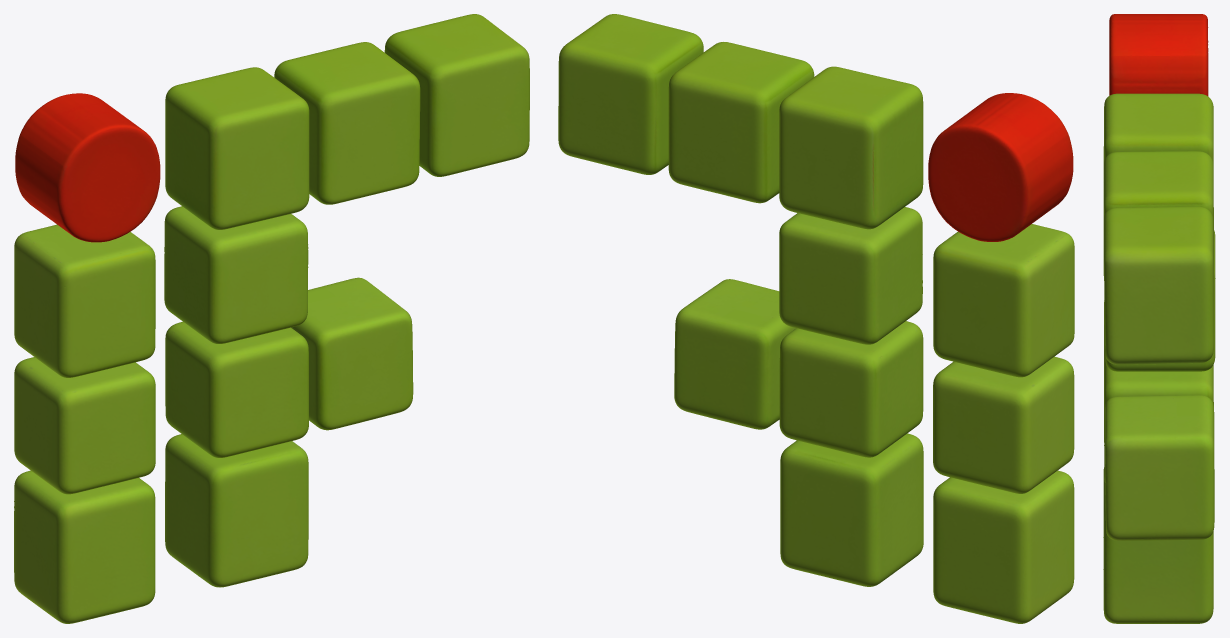
File: IFneon.glb
3 renders of one model, left to right at view 1: azimuth 30°, elevation 25°; view 2: azimuth 150°, elevation 25°; view 3: azimuth 270°, elevation 25°, orthographic. The views are drawn at different scales.
Visible parts, largest first — view 1: tripo_node_4b91491d-3629-4b08-9e9b-c11e351f5221; view 2: tripo_node_4b91491d-3629-4b08-9e9b-c11e351f5221; view 3: tripo_node_4b91491d-3629-4b08-9e9b-c11e351f5221.
Boxes of the visible parts, bbox=[...] form: tripo_node_4b91491d-3629-4b08-9e9b-c11e351f5221: bbox=[14, 14, 529, 623]; tripo_node_4b91491d-3629-4b08-9e9b-c11e351f5221: bbox=[558, 14, 1074, 623]; tripo_node_4b91491d-3629-4b08-9e9b-c11e351f5221: bbox=[1103, 14, 1215, 623].
Bounding box in the file's own units: 1 × 0.9904 × 0.1979.
Materials: 1 (1 with a texture image).
